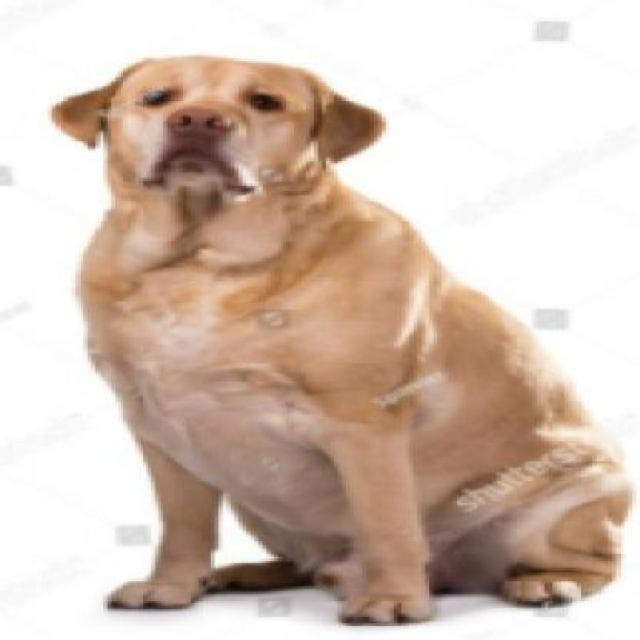Dog: (40, 55, 628, 631)
